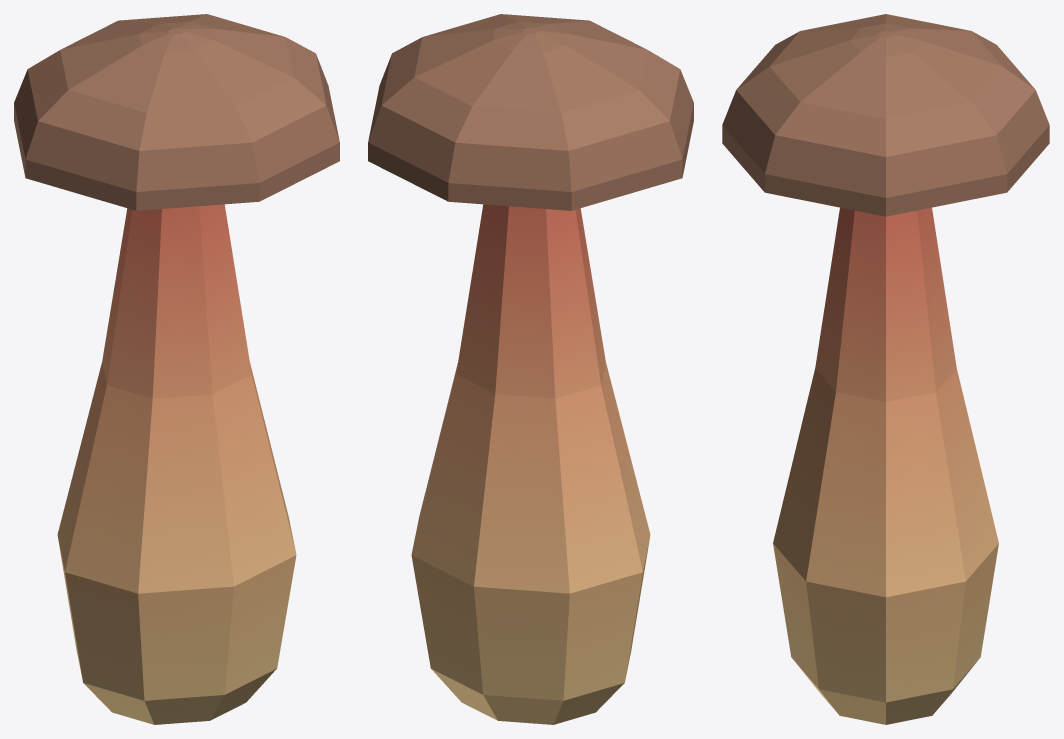
Rendered from Cavern_Mushroom_Toll01.fbx.
3 renders of one model, left to right at view 1: azimuth 30°, elevation 25°; view 2: azimuth 150°, elevation 25°; view 3: azimuth 270°, elevation 25°, orthographic.
Visible parts, largest first — view 1: Cylinder.200; view 2: Cylinder.200; view 3: Cylinder.200.
Part boxes in pixels (x1,y1,x2,y2): Cylinder.200: (14, 14, 339, 724); Cylinder.200: (368, 14, 693, 724); Cylinder.200: (722, 14, 1049, 724).
Size of the model in its own units: 19.05 by 39.98 by 17.99.
